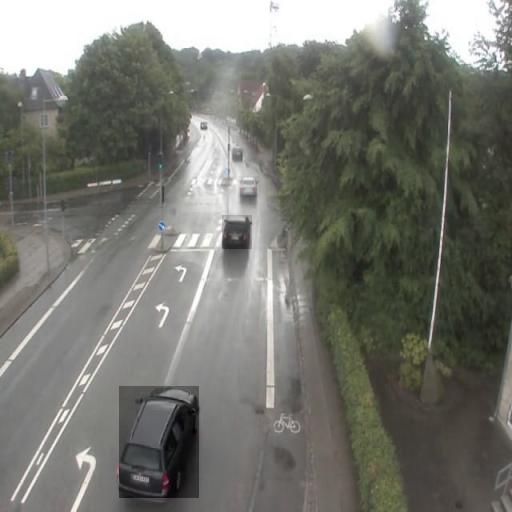小汽车: (120, 386, 200, 498), (222, 215, 252, 249), (238, 176, 260, 197)
